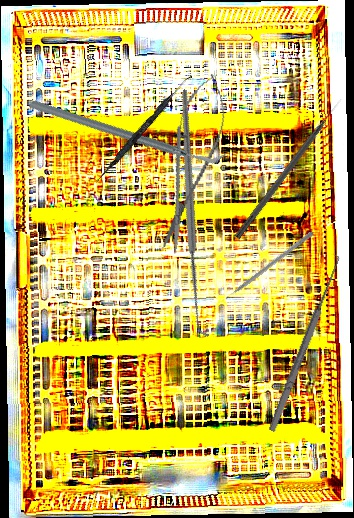Chopper: (28, 36, 227, 226)
Hook Surgical: (88, 89, 304, 337), (233, 96, 346, 241), (260, 251, 345, 434)
Micro Scissor: (146, 68, 236, 259)
Pusher: (218, 229, 315, 305)
Spatula Surgical: (95, 71, 193, 185)
